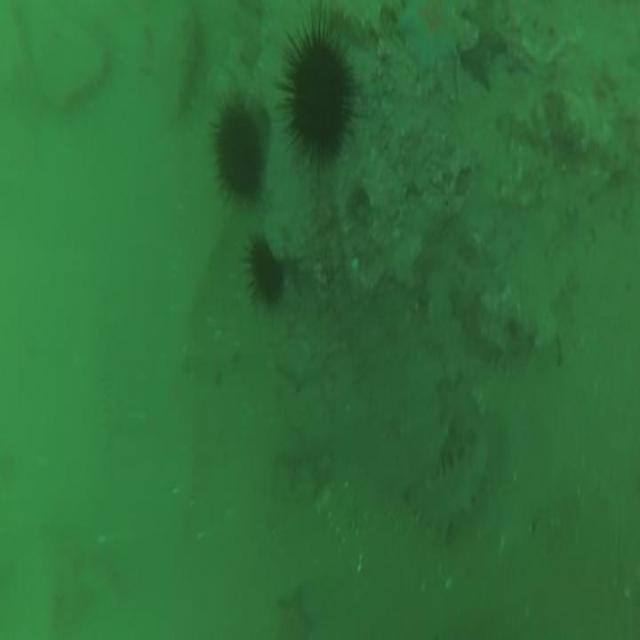echinus: (277, 27, 359, 171), (204, 85, 272, 214), (236, 228, 286, 306)
holothurian: (406, 423, 492, 539)
starfish: (400, 3, 464, 87), (460, 10, 508, 101)
